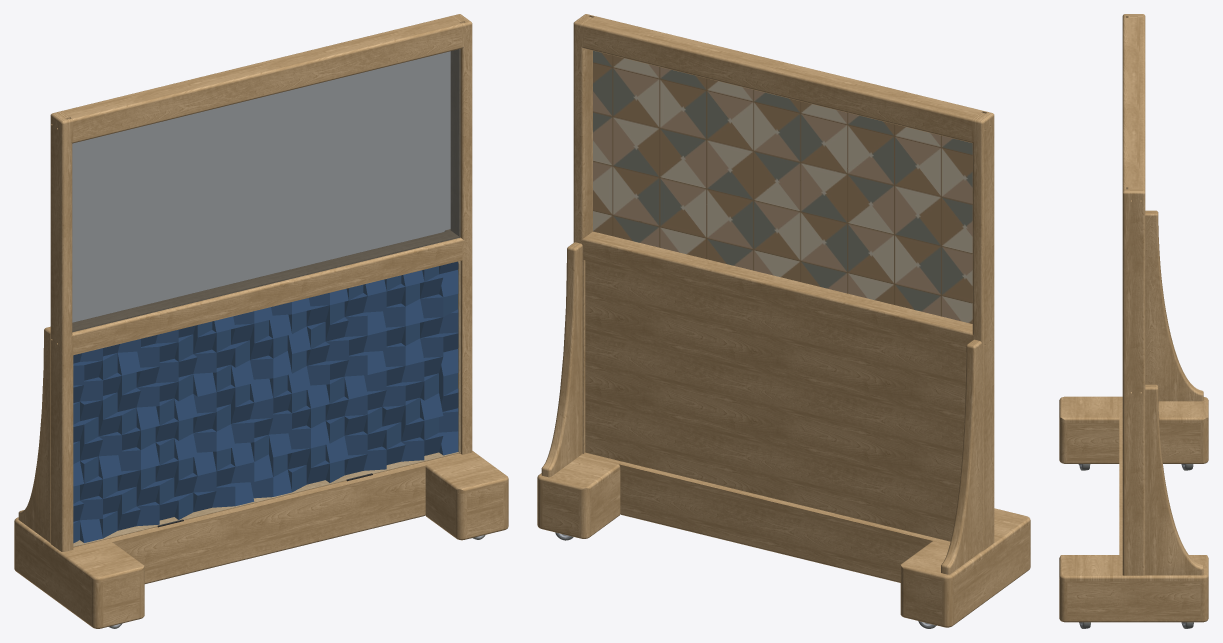
The model's file is v10-linen-marquetry-wheat-one.glb.
The picture shows the model from 3 angles, left to right: view 1: azimuth 30°, elevation 25°; view 2: azimuth 150°, elevation 25°; view 3: azimuth 270°, elevation 25°; orthographic projection. The views are drawn at different scales.
Parts seen in each view (by area): view 1: Wood, Cover glass, Linen Marquetry reverse, Navy Everwood relief; view 2: Wood, Linen Marquetry print; view 3: Wood, Nonmarking rubber.
Part boxes in pixels (x1,y1,x2,y2): Wood: [14, 14, 508, 628]; Cover glass: [74, 261, 459, 545]; Linen Marquetry reverse: [72, 49, 460, 331]; Navy Everwood relief: [73, 261, 458, 543]; Wood: [537, 14, 1030, 627]; Linen Marquetry print: [593, 50, 972, 323]; Wood: [1059, 14, 1208, 622]; Nonmarking rubber: [1079, 464, 1193, 628].
Size of the model in its own units: 1.68 by 1.91 by 0.5842.
10 materials, 2 textured.
